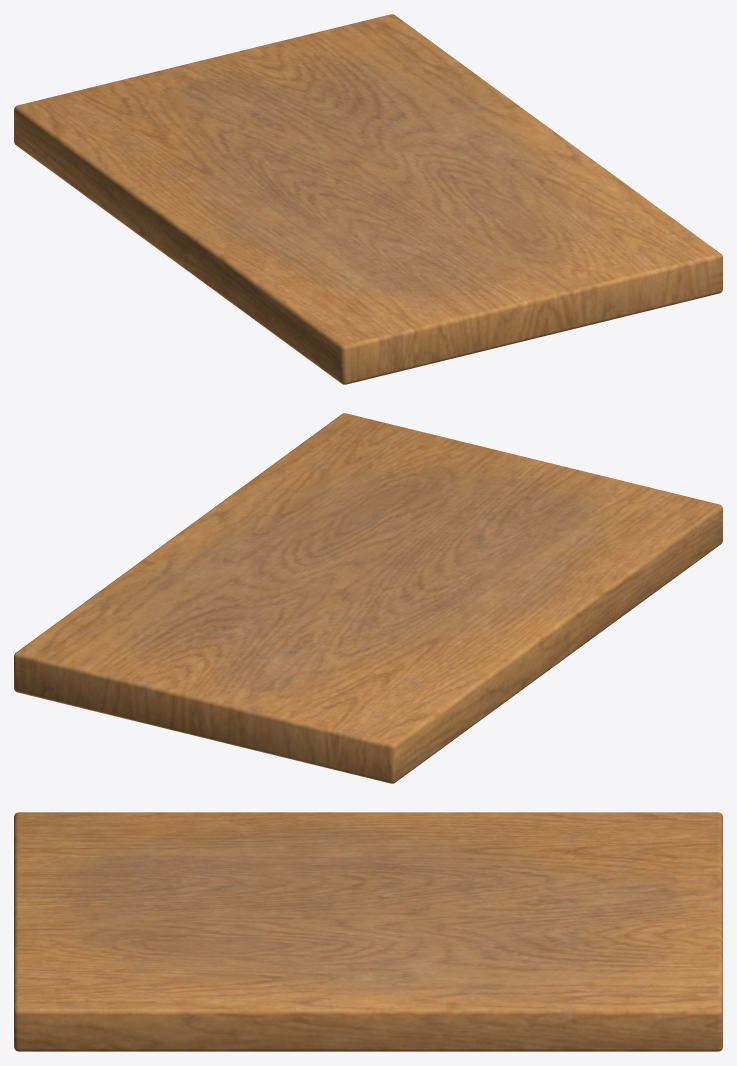
File: cutting_board.glb
3 renders of one model, top to bottom at view 1: azimuth 30°, elevation 25°; view 2: azimuth 150°, elevation 25°; view 3: azimuth 270°, elevation 25°, orthographic. The views are drawn at different scales.
Visible parts, largest first — view 1: cutting board used; view 2: cutting board used; view 3: cutting board used.
Boxes of the visible parts, x1=… form: cutting board used: x1=14, y1=14, x2=722, y2=384; cutting board used: x1=14, y1=413, x2=722, y2=783; cutting board used: x1=14, y1=812, x2=722, y2=1051.
Size of the model in its own units: 0.2 by 0.02 by 0.3.
Materials: 1 (1 with a texture image).
